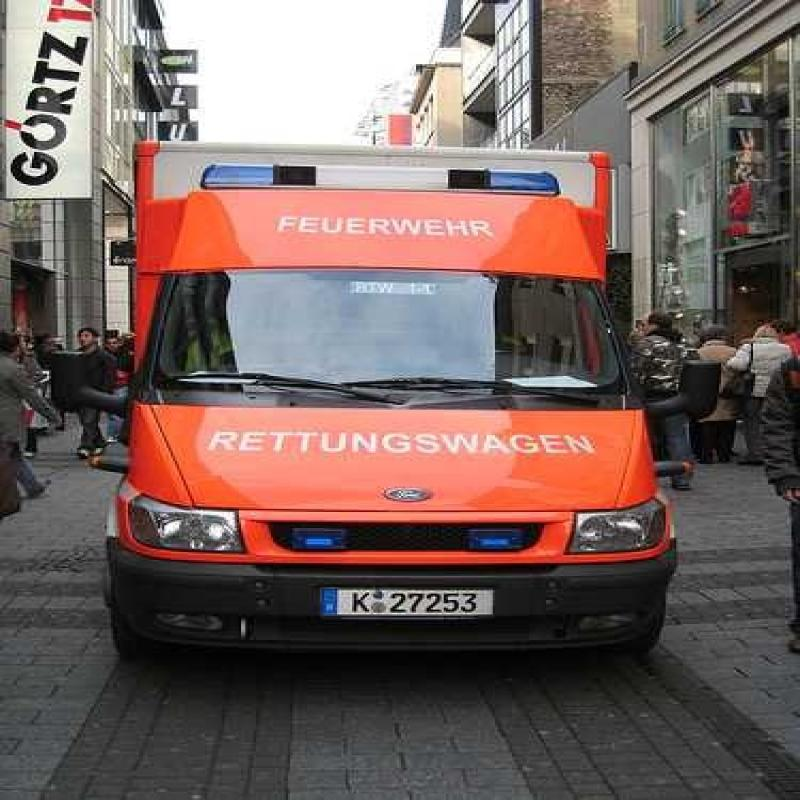AmbulanceSiren: (177, 151, 667, 220)
